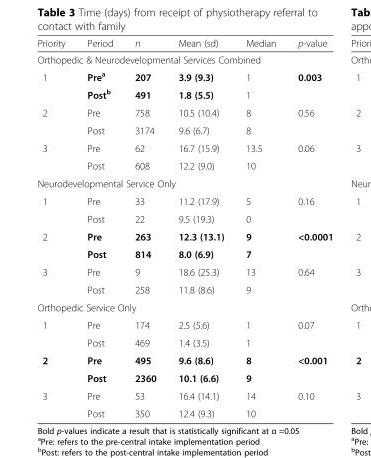table: (36, 37, 332, 418)
table column: (166, 37, 234, 418), (234, 37, 286, 418), (75, 37, 123, 418), (286, 37, 332, 418), (123, 37, 166, 418), (36, 37, 75, 418)
table column header: (36, 37, 332, 50)
table projected row header: (36, 174, 332, 192), (36, 50, 332, 67), (36, 298, 332, 315)
table row: (36, 84, 332, 103), (36, 103, 332, 121), (36, 138, 332, 156), (36, 156, 332, 174), (36, 174, 332, 192), (36, 209, 332, 227), (36, 227, 332, 245), (36, 262, 332, 280), (36, 280, 332, 298), (36, 315, 332, 333), (36, 333, 332, 351), (36, 368, 332, 386), (36, 386, 332, 404), (36, 50, 332, 67), (36, 67, 332, 84), (36, 121, 332, 138), (36, 192, 332, 209), (36, 245, 332, 262), (36, 298, 332, 315), (36, 351, 332, 368), (36, 404, 332, 418), (36, 37, 332, 50)
table spanning cell: (286, 67, 332, 103), (286, 138, 332, 174), (286, 262, 332, 298), (286, 315, 332, 351), (286, 103, 332, 138), (286, 192, 332, 227), (286, 227, 332, 262), (286, 351, 332, 386), (286, 386, 332, 418), (36, 67, 75, 103), (36, 138, 75, 174), (36, 262, 75, 298), (36, 315, 75, 351), (36, 103, 75, 138), (36, 192, 75, 227), (36, 227, 75, 262), (36, 351, 75, 386), (36, 386, 75, 418)
